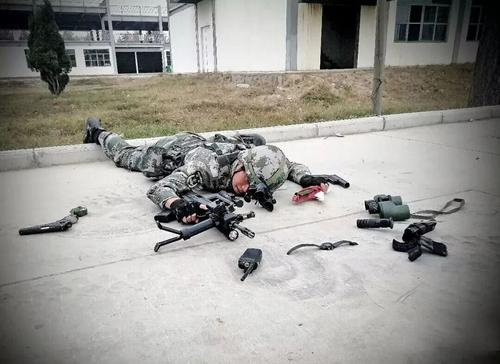falling: (75, 111, 362, 221)
